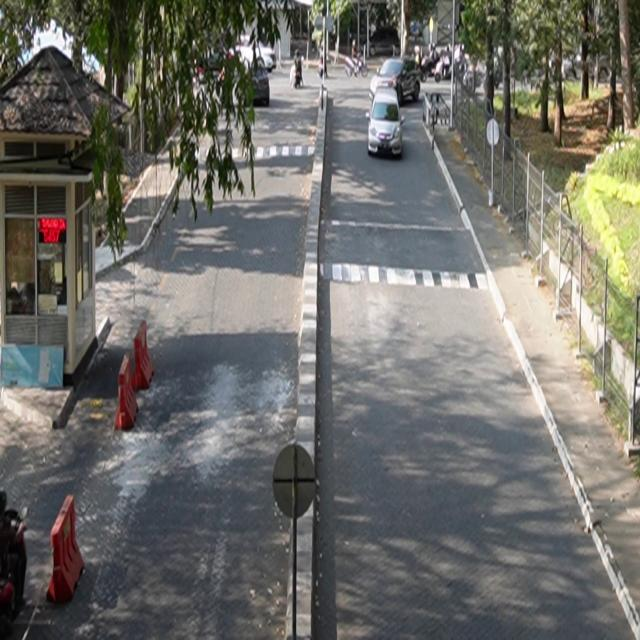car: (366, 88, 406, 159), (369, 58, 422, 106)
